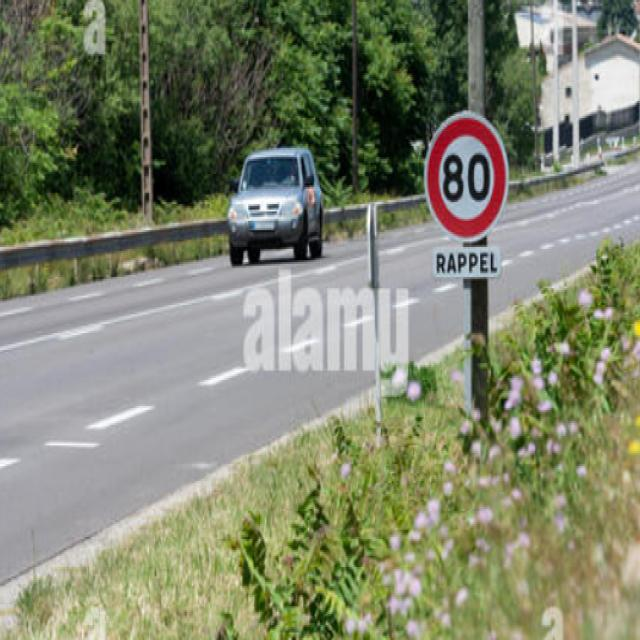speed_80: (422, 111, 511, 243)
